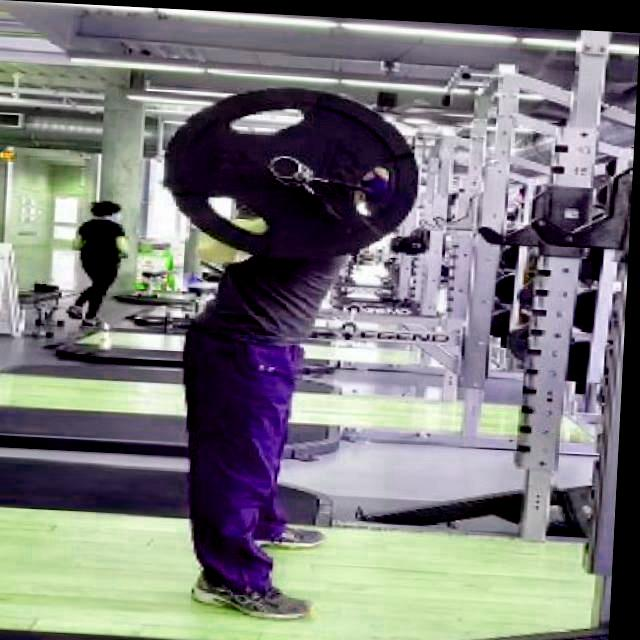barbell: (153, 75, 429, 268)
